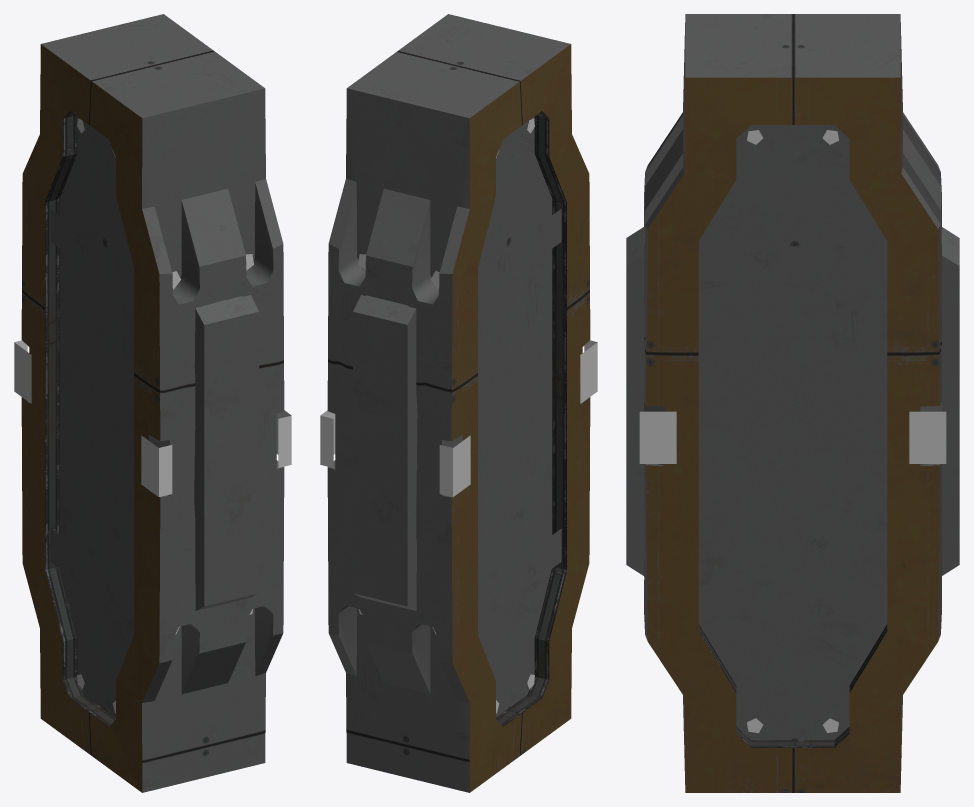
The model's file is Subway_Courner3_L2.fbx.
3 renders of one model, left to right at view 1: azimuth 30°, elevation 25°; view 2: azimuth 150°, elevation 25°; view 3: azimuth 270°, elevation 25°, orthographic. The views are drawn at different scales.
Visible parts, largest first — view 1: polySurface923; view 2: polySurface923; view 3: polySurface923.
Boxes of the visible parts, box(x1,y1,x2,y2) form: polySurface923: box(14, 14, 291, 792); polySurface923: box(320, 14, 597, 792); polySurface923: box(626, 14, 959, 792).
Bounding box in the file's own units: 81.96 × 397 × 168.
